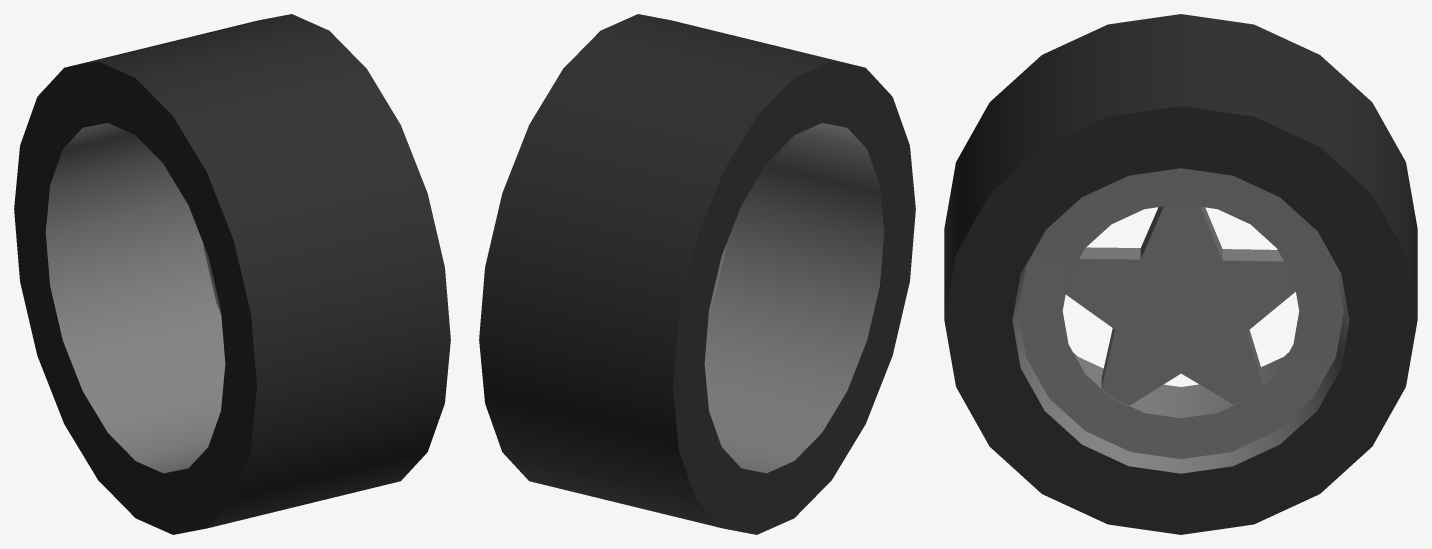
Rendered from F40tire_front_left.obj.
3 renders of one model, left to right at view 1: azimuth 30°, elevation 25°; view 2: azimuth 150°, elevation 25°; view 3: azimuth 270°, elevation 25°, orthographic. The views are drawn at different scales.
Visible parts, largest first — view 1: F40tire_front_left, F40tire_front_left_chrom; view 2: F40tire_front_left, F40tire_front_left_chrom; view 3: F40tire_front_left, F40tire_front_left_chrom.
Boxes of the visible parts, x1,y1,x2,y2 form: F40tire_front_left: (14, 14, 450, 534); F40tire_front_left_chrom: (45, 123, 225, 473); F40tire_front_left: (479, 14, 915, 534); F40tire_front_left_chrom: (704, 123, 884, 473); F40tire_front_left: (944, 14, 1417, 534); F40tire_front_left_chrom: (1012, 168, 1349, 473).
Size of the model in its own units: 0.7561 by 1.63 by 1.63.
